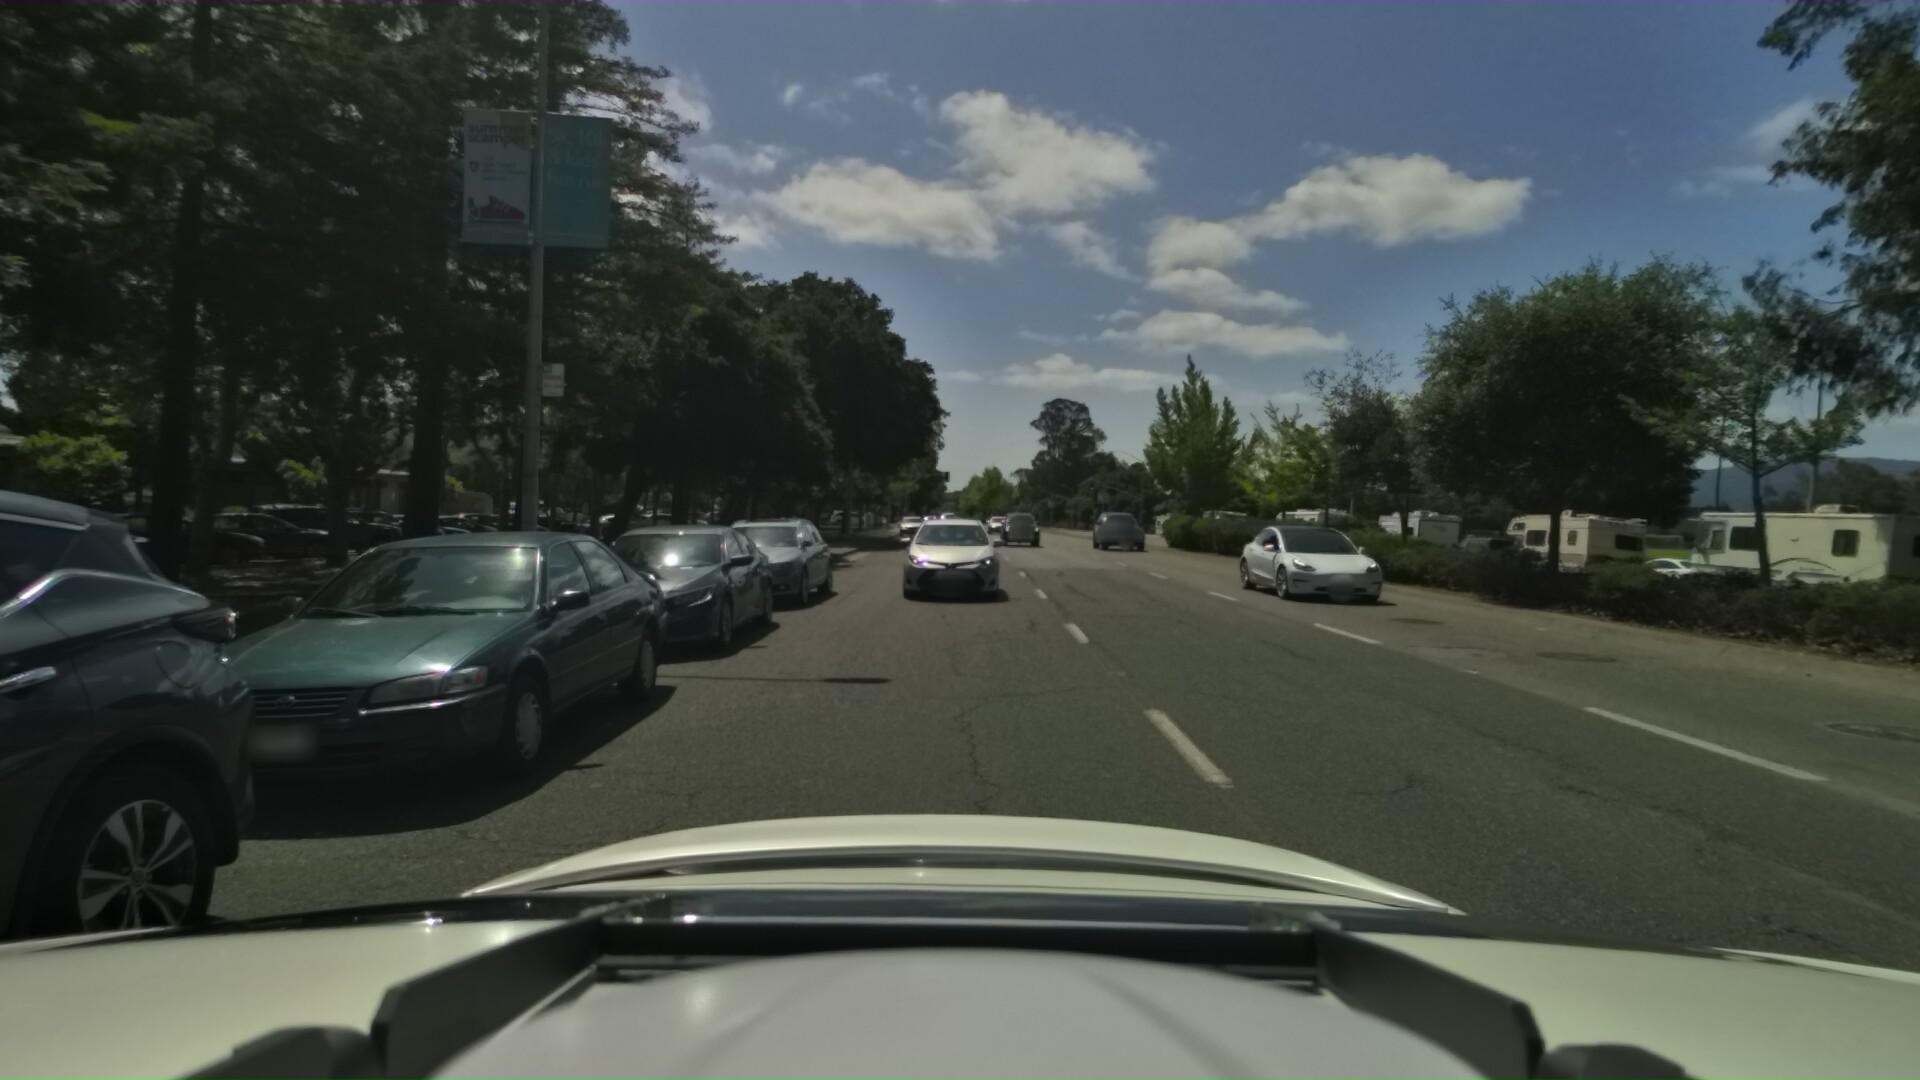car: (154, 516, 717, 824), (555, 510, 793, 665), (694, 509, 843, 611), (1212, 513, 1367, 600), (895, 510, 1005, 605), (1594, 547, 1727, 596), (1431, 529, 1519, 574), (1087, 506, 1142, 549), (998, 506, 1039, 542), (899, 510, 926, 533), (985, 510, 1010, 533)
other_vehicle: (1659, 488, 1920, 633), (1484, 498, 1644, 589), (1357, 504, 1462, 564), (1265, 498, 1352, 553)
